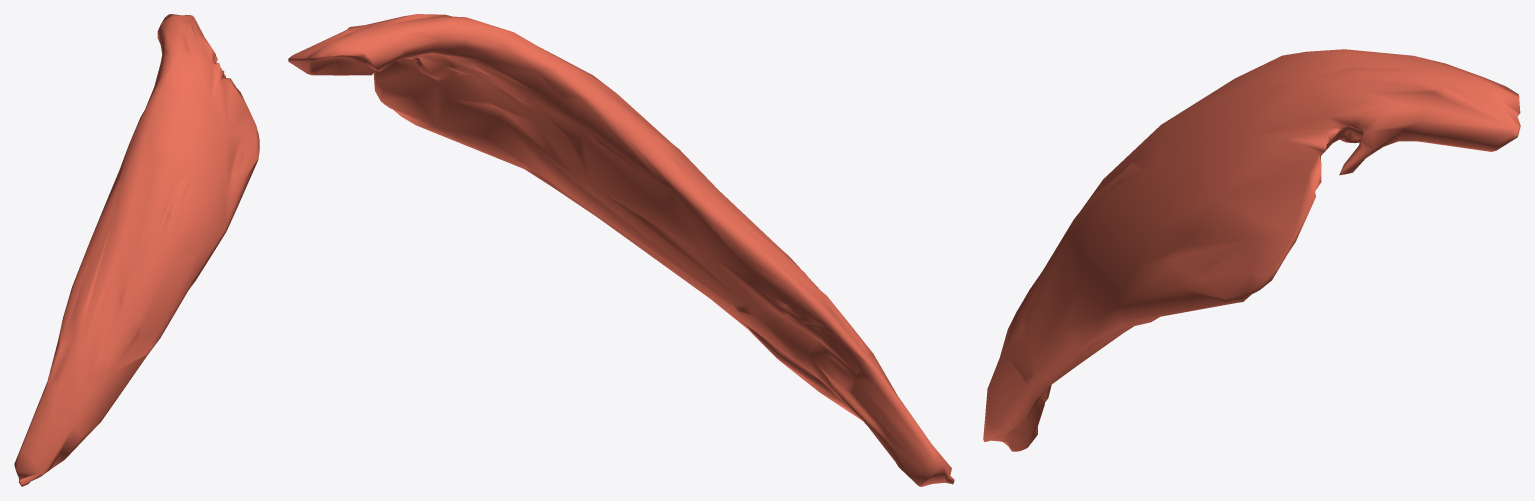
File: abductor-pollicis-brevis.glb
3 views of the same model, side by side, from view 1: azimuth 30°, elevation 25°; view 2: azimuth 150°, elevation 25°; view 3: azimuth 270°, elevation 25° (orthographic). The views are drawn at different scales.
Visible parts, largest first — view 1: Abductor pollicis brevis.r; view 2: Abductor pollicis brevis.r; view 3: Abductor pollicis brevis.r.
Part boxes in pixels (bbox=[...]): Abductor pollicis brevis.r: bbox=[14, 14, 259, 486]; Abductor pollicis brevis.r: bbox=[288, 14, 954, 486]; Abductor pollicis brevis.r: bbox=[983, 49, 1520, 451].
Bounding box in the file's own units: 0.0407 × 0.0396 × 0.0307.
